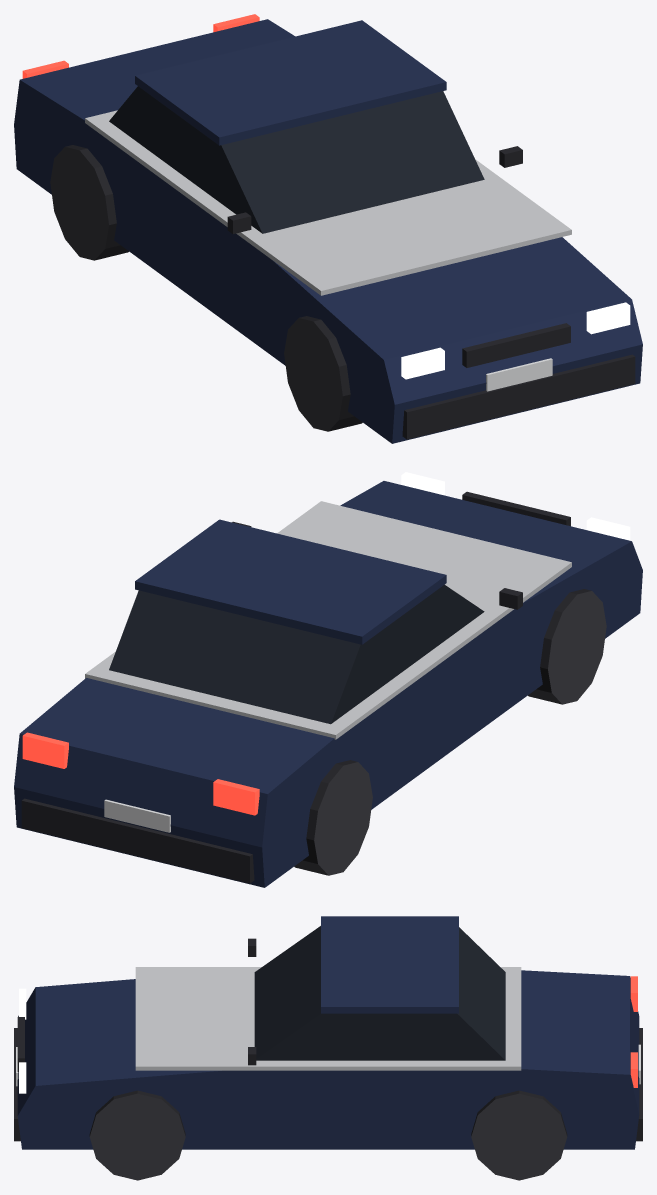
File: corva_l.glb
3 views of the same model, one above another, from view 1: azimuth 30°, elevation 25°; view 2: azimuth 150°, elevation 25°; view 3: azimuth 270°, elevation 25° (orthographic). The views are drawn at different scales.
Visible parts, largest first — view 1: corva_l, wheel_RR, wheel_FR; view 2: corva_l, wheel_FR, wheel_RR; view 3: corva_l, wheel_FL, wheel_RL.
Boxes of the visible parts, left/top/right/bottom form: corva_l: left=14, top=14, right=642, bottom=443; wheel_RR: left=50, top=145, right=128, bottom=260; wheel_FR: left=284, top=316, right=362, bottom=431; corva_l: left=14, top=472, right=642, bottom=887; wheel_FR: left=528, top=589, right=606, bottom=704; wheel_RR: left=294, top=760, right=372, bottom=875; corva_l: left=14, top=916, right=642, bottom=1149; wheel_FL: left=89, top=1090, right=185, bottom=1180; wheel_RL: left=471, top=1090, right=567, bottom=1180.
Bounding box in the file's own units: 2.22 × 1.49 × 5.11.
